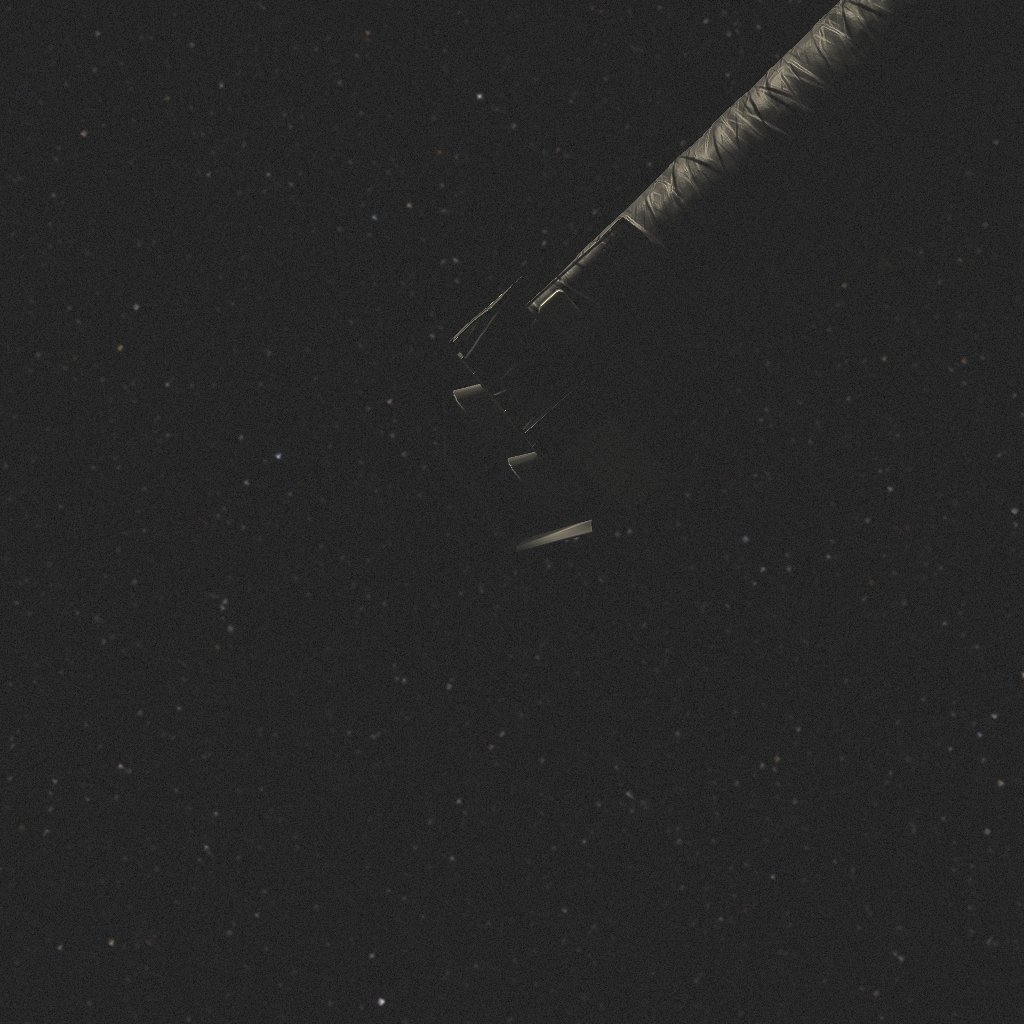xmm_newton: (428, 18, 996, 579)
